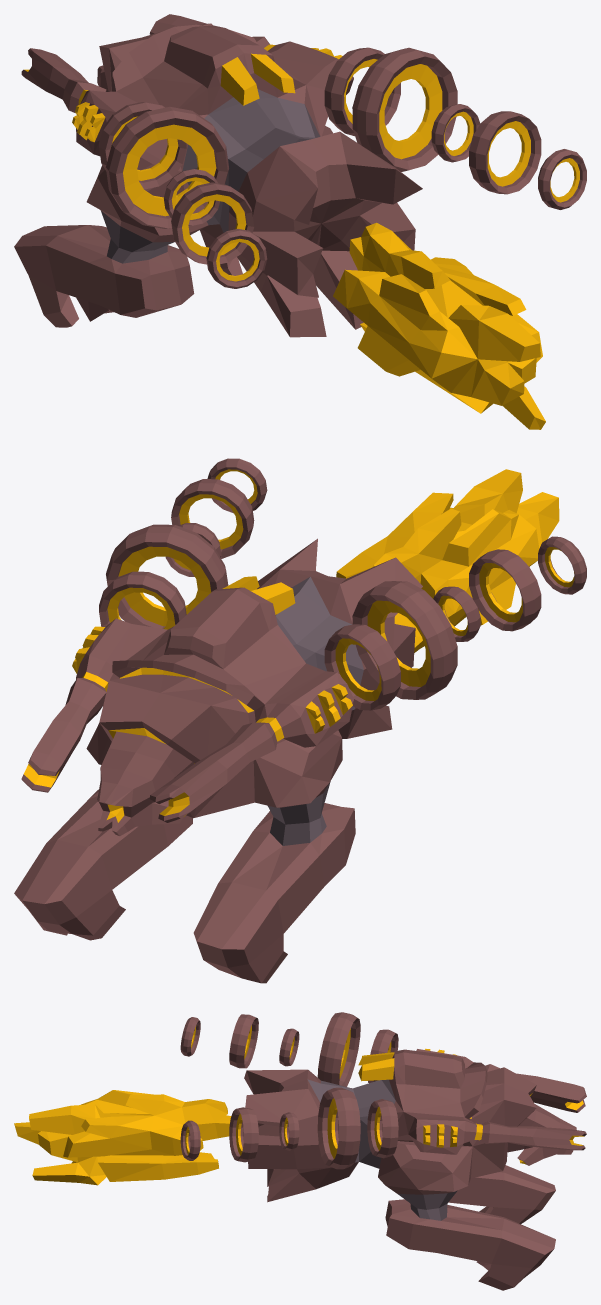
Rendered from Boss1.fbx.
3 views of the same model, one above another, from view 1: azimuth 30°, elevation 25°; view 2: azimuth 150°, elevation 25°; view 3: azimuth 270°, elevation 25° (orthographic). The views are drawn at different scales.
Parts seen in each view (by area): view 1: Cube.004, Cube.005; view 2: Cube.004, Cube.005; view 3: Cube.004, Cube.005.
Part boxes in pixels (box(x1,y1,x2,y2)): Cube.004: box(14, 14, 586, 337); Cube.005: box(333, 222, 545, 429); Cube.004: box(14, 458, 586, 983); Cube.005: box(336, 469, 559, 652); Cube.004: box(180, 1012, 586, 1290); Cube.005: box(14, 1090, 231, 1185).
Size of the model in its own units: 243 by 193 by 487.
